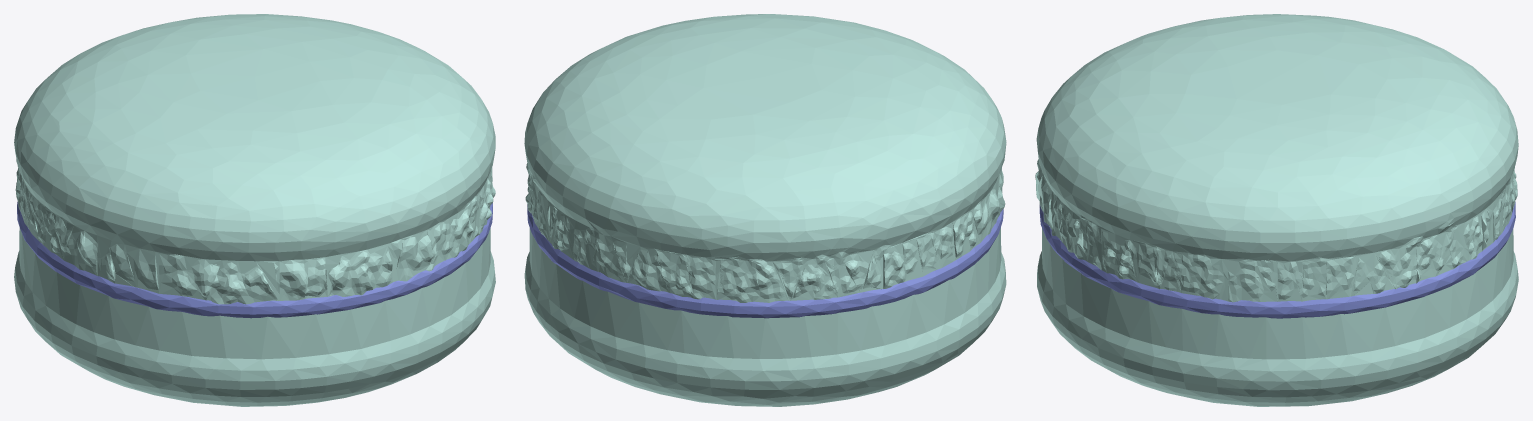
The model's file is cookies.dae.
3 renders of one model, left to right at view 1: azimuth 30°, elevation 25°; view 2: azimuth 150°, elevation 25°; view 3: azimuth 270°, elevation 25°, orthographic.
Visible parts, largest first — view 1: Macaron-half-rugged; view 2: Macaron-half-rugged; view 3: Macaron-half-rugged.
Part boxes in pixels (<box>): Macaron-half-rugged: <box>14,14,495,406</box>; Macaron-half-rugged: <box>524,14,1006,406</box>; Macaron-half-rugged: <box>1035,14,1518,406</box>.
Bounding box in the file's own units: 0.5123 × 0.5141 × 0.314.
